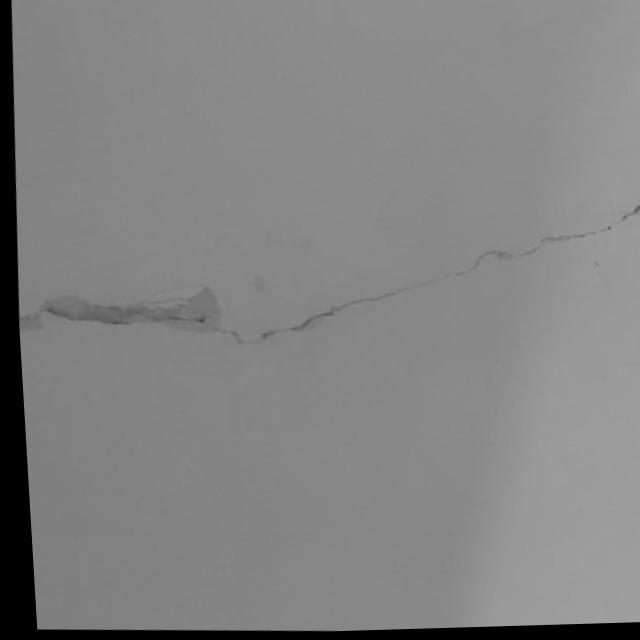Crack: (25, 207, 639, 350)
